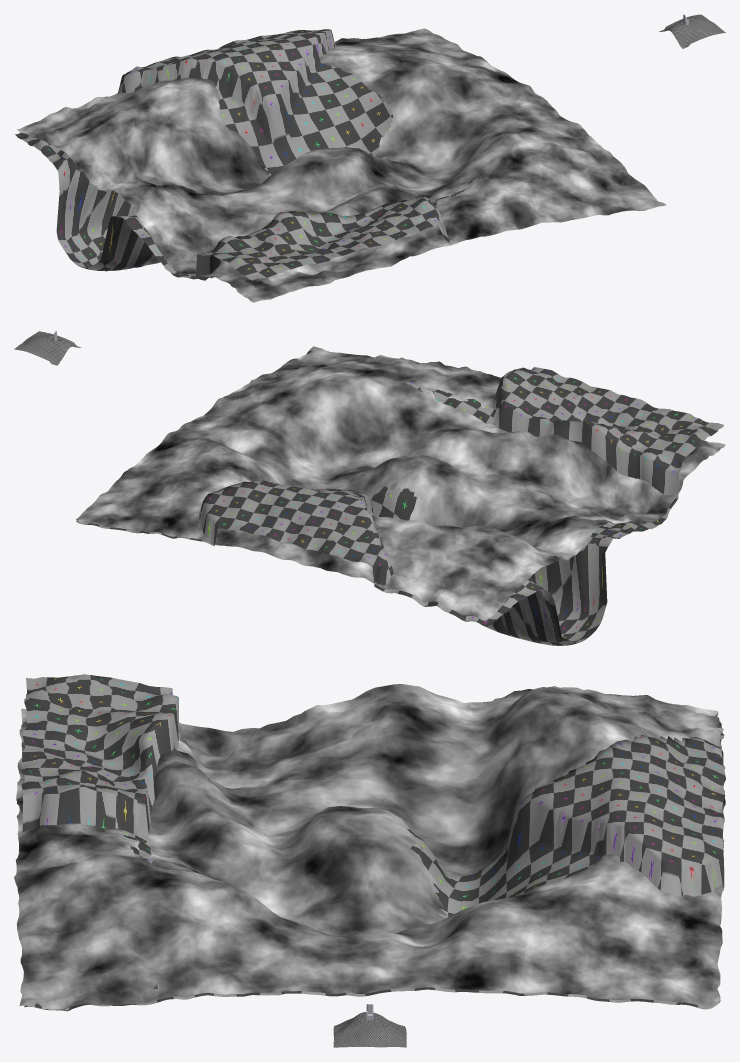
The picture shows the model from 3 angles, top to bottom: view 1: azimuth 30°, elevation 25°; view 2: azimuth 150°, elevation 25°; view 3: azimuth 270°, elevation 25°; orthographic projection. The views are drawn at different scales.
Parts seen in each view (by area): view 1: Landscape C Fog, Landscape C, Foreground; view 2: Landscape C Fog, Landscape C, Foreground; view 3: Landscape C Fog, Landscape C, Foreground.
Boxes of the visible parts, x1,y1,x2,y2 form: Landscape C Fog: (17, 28, 666, 302); Landscape C: (15, 29, 660, 280); Foreground: (659, 14, 725, 48); Landscape C Fog: (76, 346, 725, 621); Landscape C: (76, 351, 723, 645); Foreground: (14, 331, 81, 365); Landscape C Fog: (14, 684, 725, 1009); Landscape C: (21, 674, 725, 1011); Foreground: (333, 1012, 406, 1047).
Bounding box in the file's own units: 275 × 64.48 × 193.
4 materials, 4 textured.
